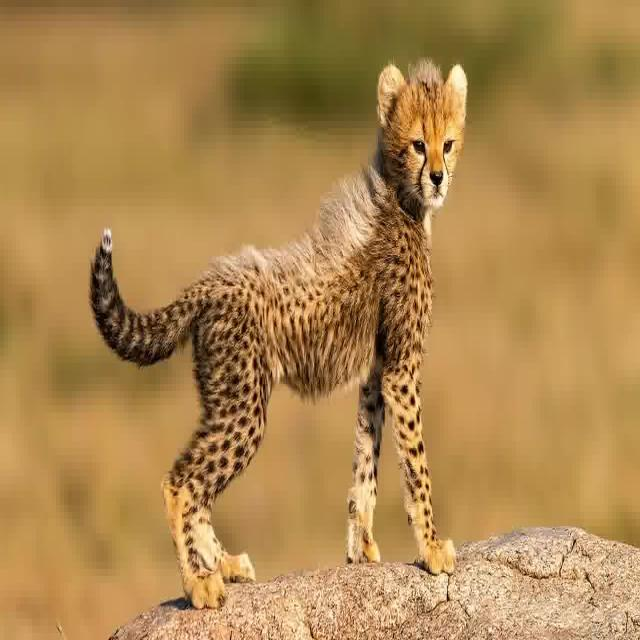Jaguar: (80, 42, 466, 617)
